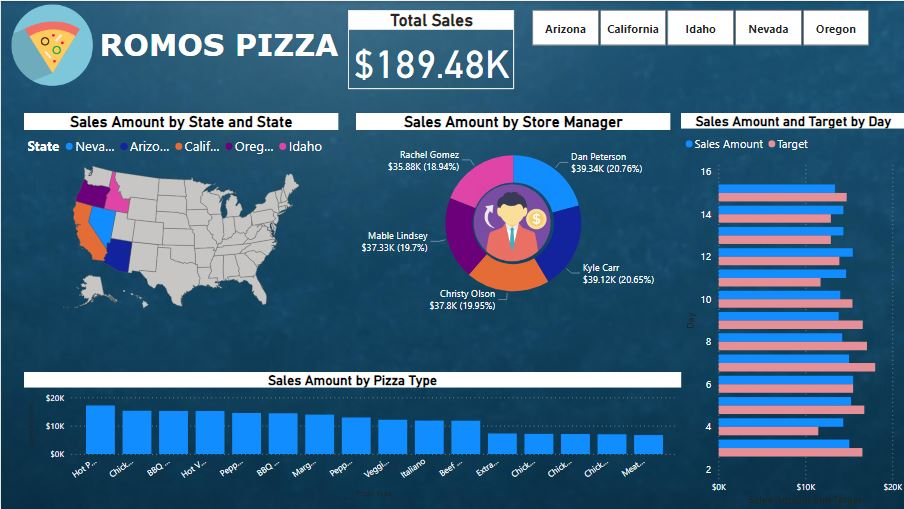

The page's visual inventory and layout, read from the dashboard file:
{"tool":"powerbi","page":{"name":"Romos Sales Pizza Report","canvas":[1280,720],"ordinal":0},"visuals":[{"type":"image","box":[17.8,17.8,130.4,123.5],"z":0},{"type":"textbox","box":[137.2,41.2,406.2,78.2],"z":1000},{"type":"card","title":"Total Sales","fields":{"Values":["Sales.Total Sales"]},"box":[569.5,56.3,237.4,101.5],"z":2000},{"type":"shapeMap","title":"Total Sales by State","fields":{"Category":["State.State"],"Value":["Sales.Total Sales"],"Series":["State.State"]},"box":[41.2,183.9,502.2,269],"z":3000},{"type":"donutChart","title":"Total Sales by Store Manager","fields":{"Category":["Branch Data.Store Manager"],"Y":["Sales.Total Sales"]},"box":[543.4,183.9,371.9,269],"z":4000},{"type":"image","box":[669.6,262.1,122.1,140],"z":5000},{"type":"slicer","fields":{"Values":["Branch Data.State"]},"box":[817.8,64.5,462.4,85.1],"z":6000},{"type":"clusteredBarChart","title":"Total Sales and Target by Day","fields":{"Category":["Daily Target.Day.Variation.Date Hierarchy.Day"],"Y":["Sales.Total Sales","Daily Target.Target"]},"box":[941.3,183.9,325.2,498.1],"z":7000},{"type":"columnChart","title":"Total Sales by Pizza Type","fields":{"Category":["Sales.Pizza Type"],"Y":["Sales.Total Sales"]},"box":[41.2,470.7,874.1,211.3],"z":8000}]}

Visuals, with their boxes in screenshot pixels (x1, y1, x2, y2), scaled from the page's 1280x720 canvas onto the 904x509 screenshot:
image: (x1=13, y1=13, x2=105, y2=100)
textbox: (x1=97, y1=29, x2=384, y2=84)
"Total Sales" card: (x1=402, y1=40, x2=570, y2=112)
"Total Sales by State" shapeMap: (x1=29, y1=130, x2=384, y2=320)
"Total Sales by Store Manager" donutChart: (x1=384, y1=130, x2=646, y2=320)
image: (x1=473, y1=185, x2=559, y2=284)
slicer - Branch Data.State: (x1=578, y1=46, x2=903, y2=106)
"Total Sales and Target by Day" clusteredBarChart: (x1=665, y1=130, x2=894, y2=482)
"Total Sales by Pizza Type" columnChart: (x1=29, y1=333, x2=646, y2=482)
